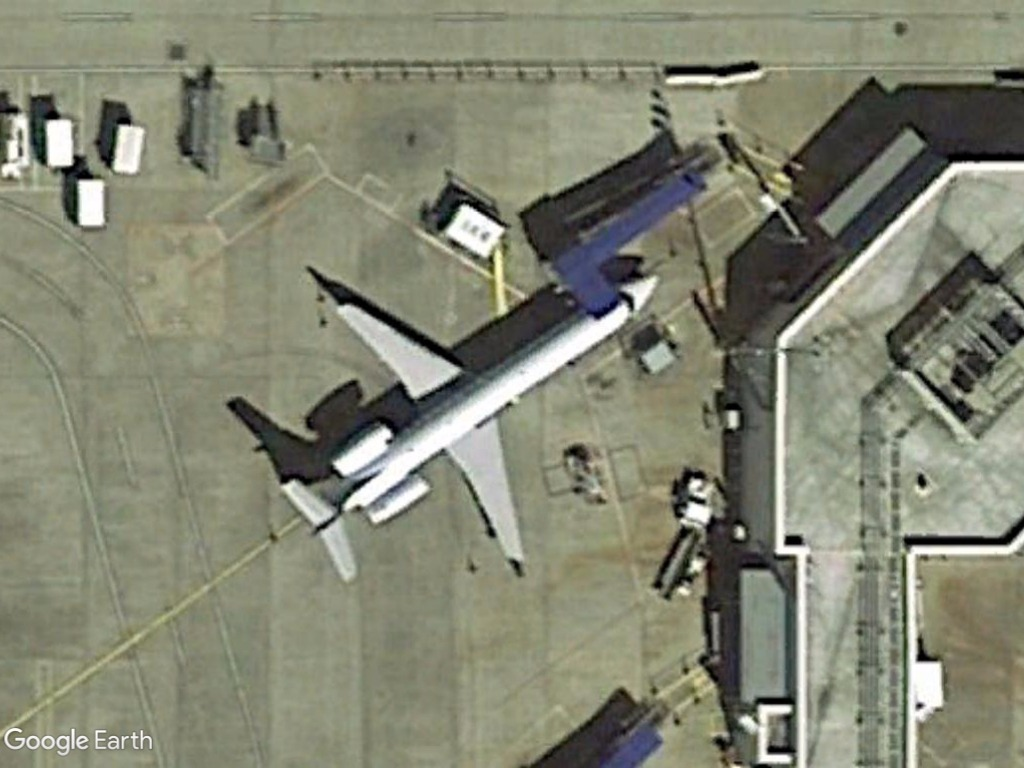chartered: (275, 268, 662, 590)
